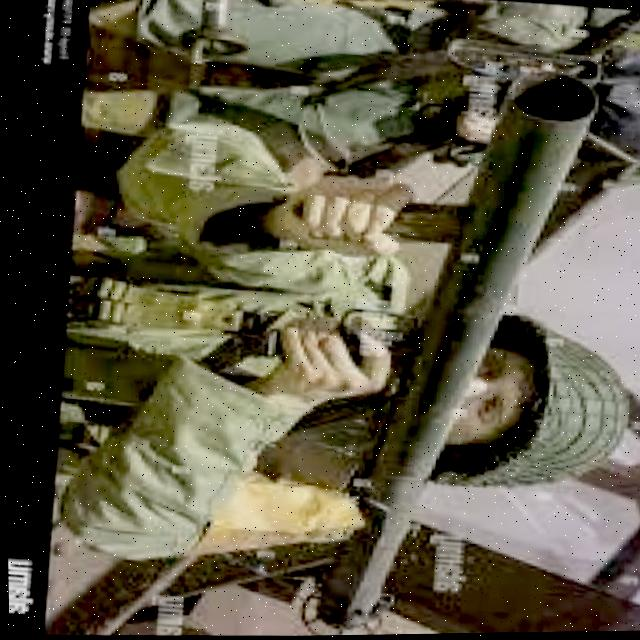rocket: (294, 55, 612, 637)
